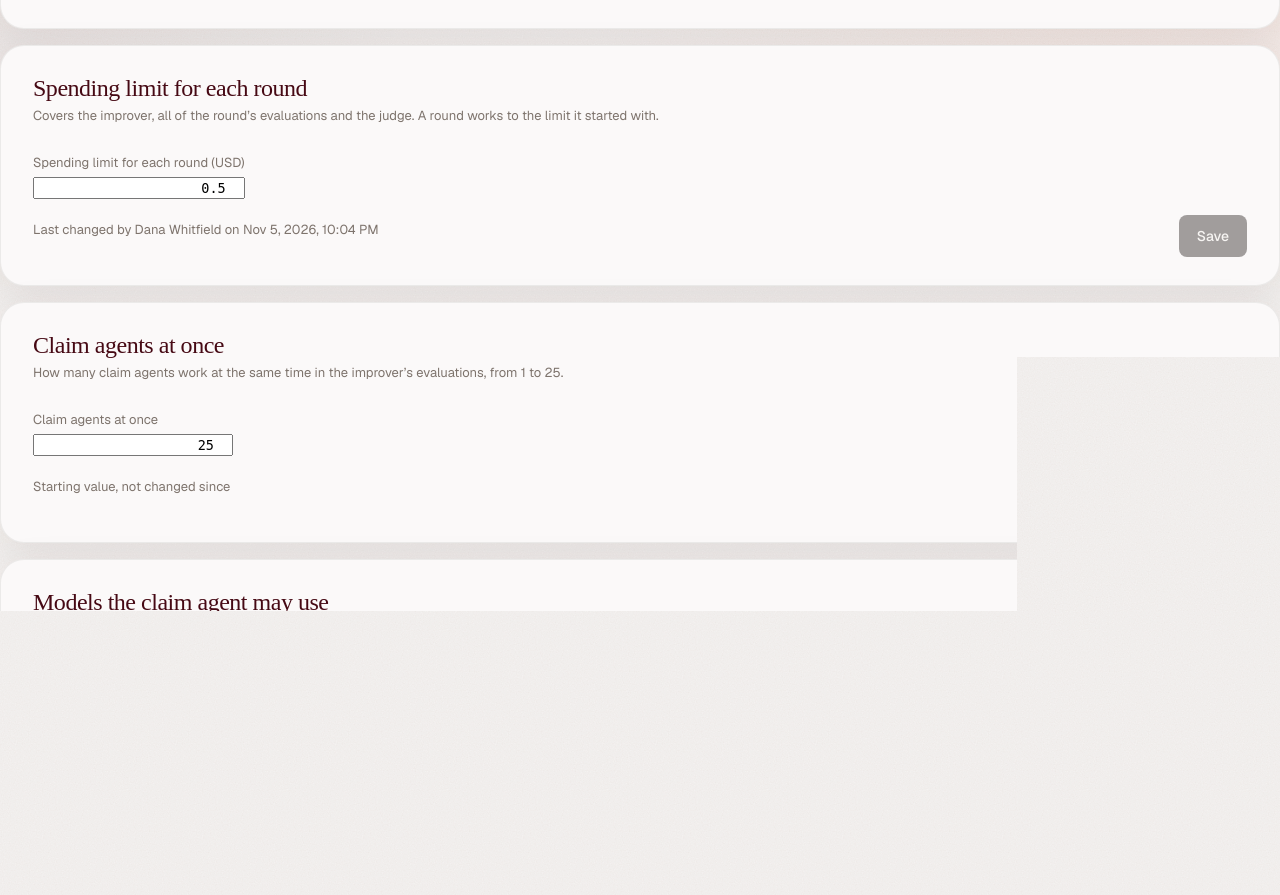
Test case: Settings › sends nothing when the confirmation is cancelled
(page scrolled)
Replace the text in the number field labelled "Claim agents at once" with "10": (133, 445) [33,434,233,456]
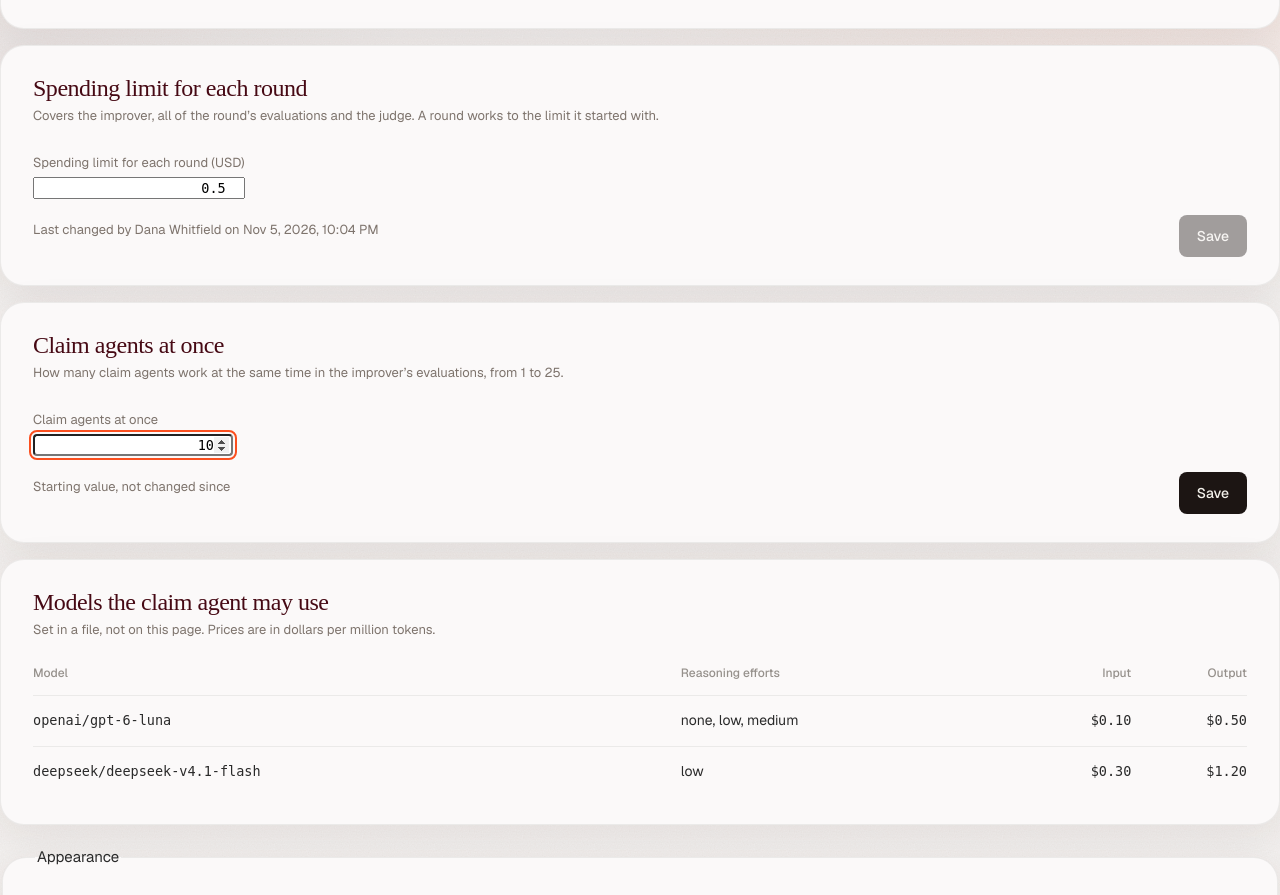
Click the button with aria-label "Save claim agents at once": (1213, 493) [1179,472,1247,514]
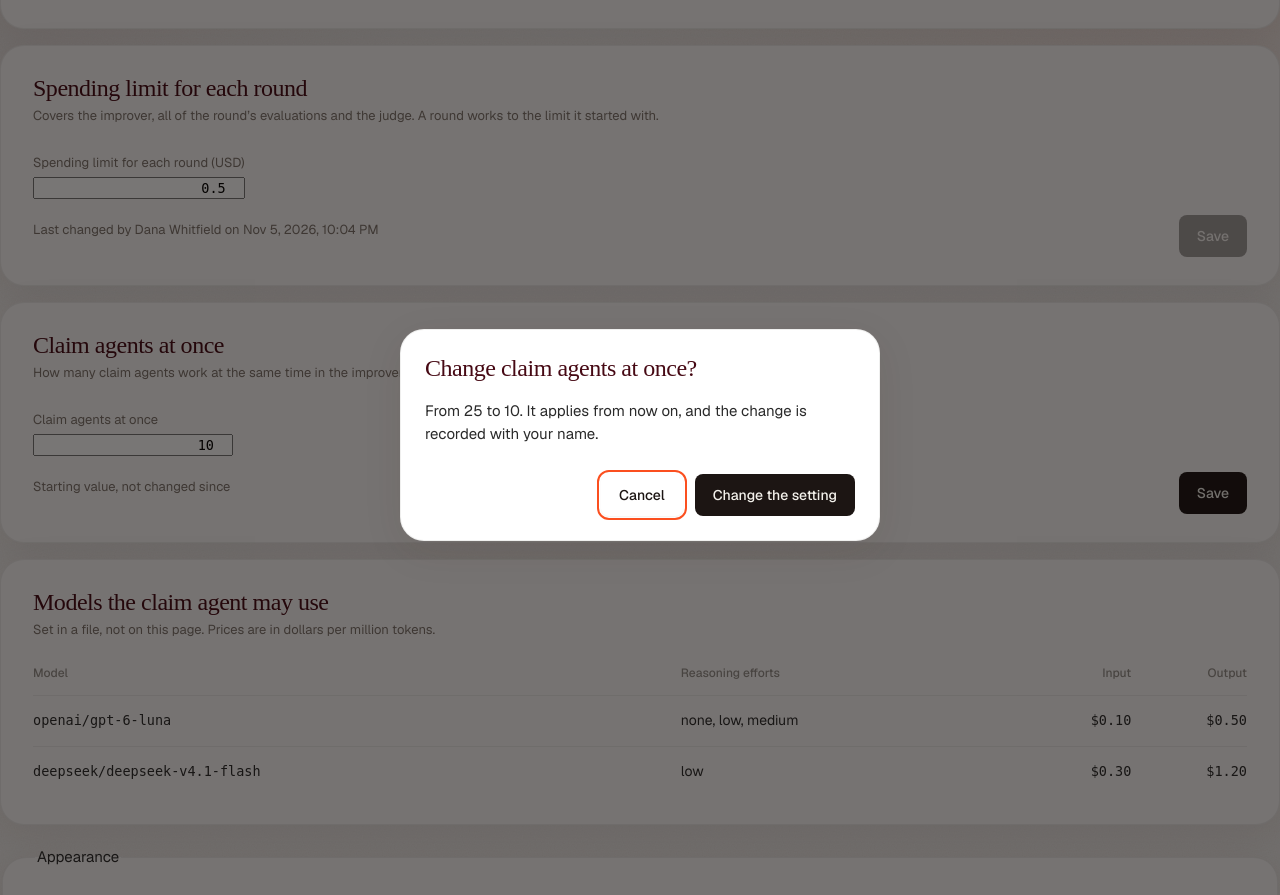
Click the button "Cancel": (642, 495) [601,474,683,516]
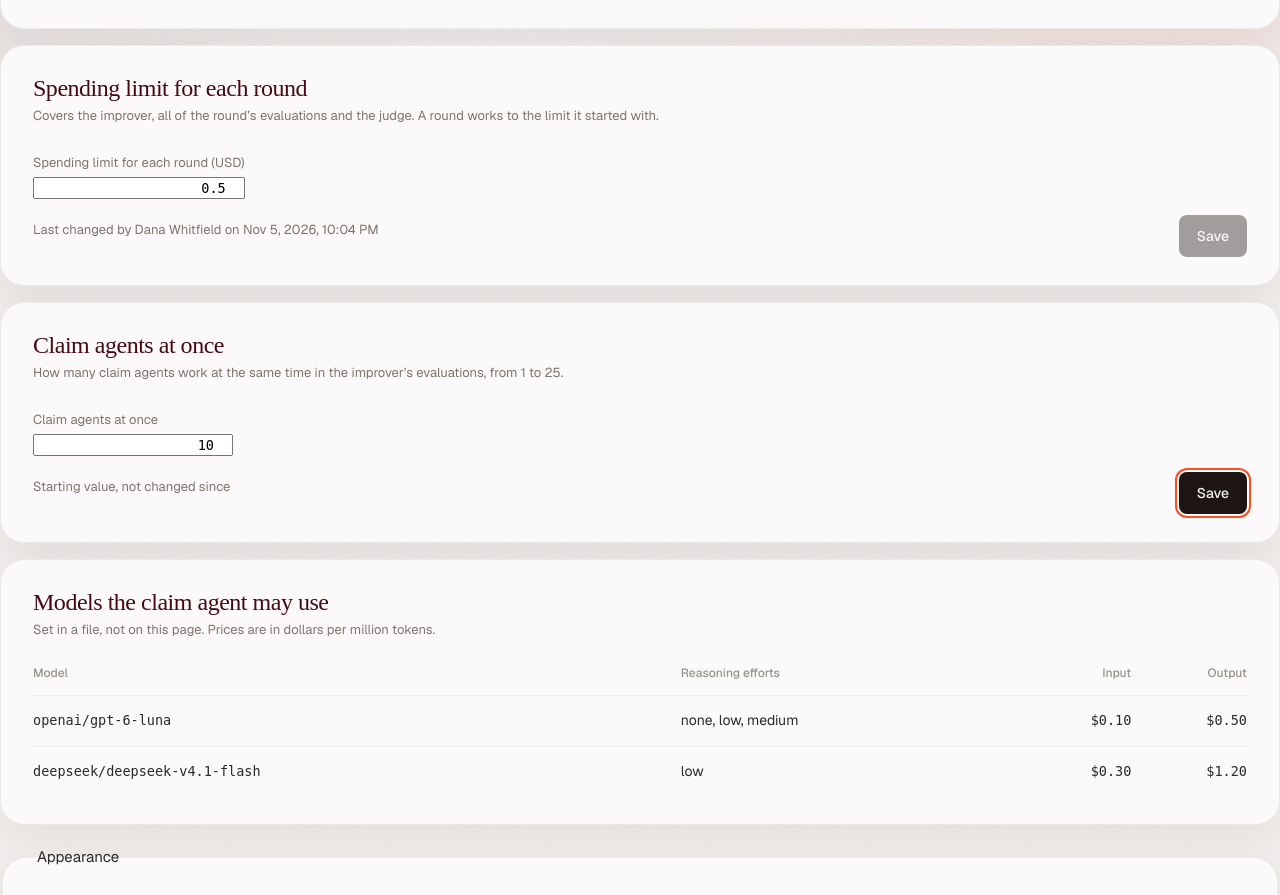
Expected: the dialog is gone
